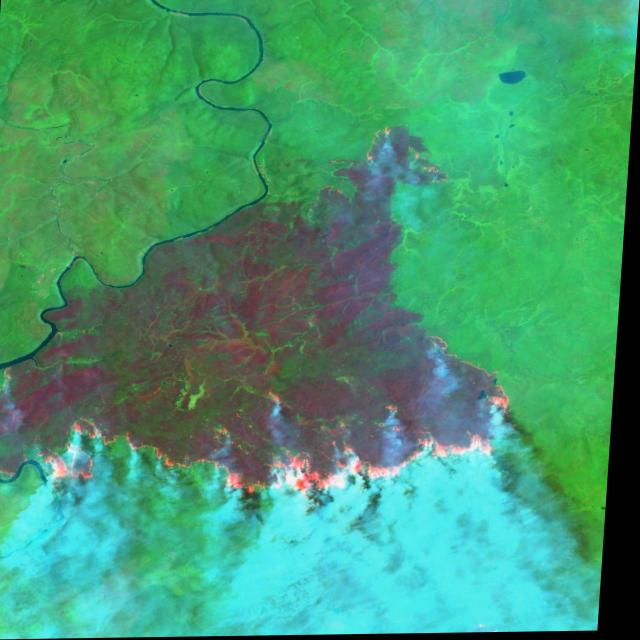fire: (0, 331, 528, 520)
